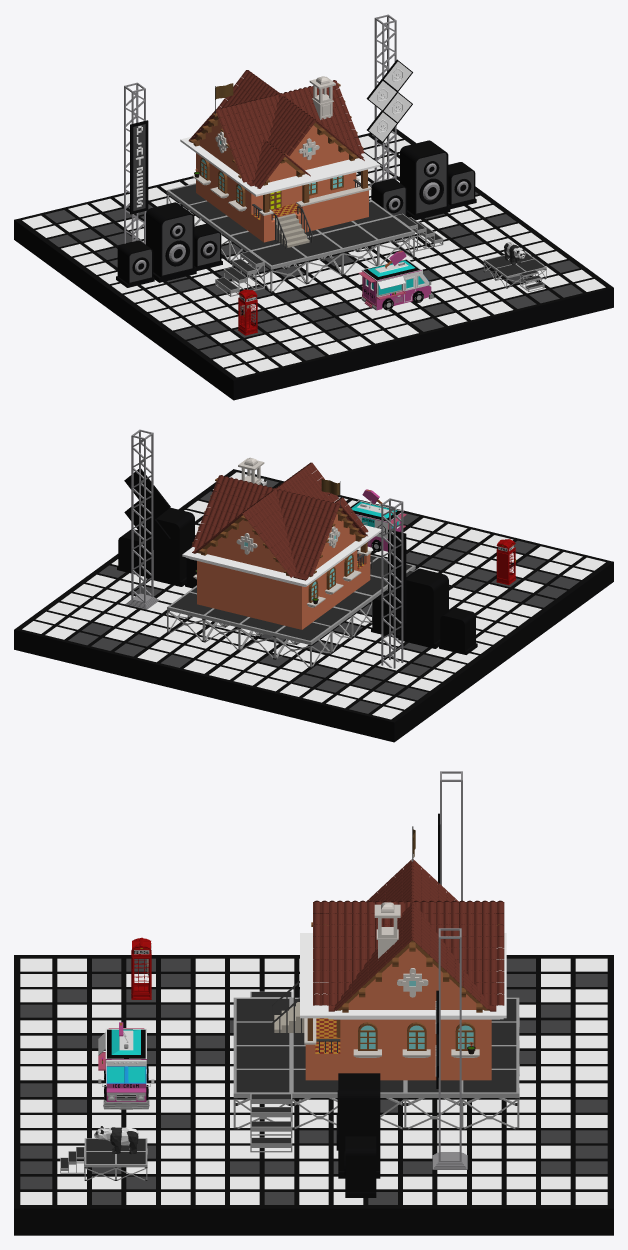
3 renders of one model, top to bottom at view 1: azimuth 30°, elevation 25°; view 2: azimuth 150°, elevation 25°; view 3: azimuth 270°, elevation 25°, orthographic. The views are drawn at different scales.
Visible parts, largest first — view 1: Cube.008, Cube.1141, VEHICLES_ICE_CREAM_TRUCK, OBJRANDOM_PHONEBOOTH; view 2: Cube.008, Cube.1141, VEHICLES_ICE_CREAM_TRUCK, OBJRANDOM_PHONEBOOTH; view 3: Cube.008, Cube.1141, VEHICLES_ICE_CREAM_TRUCK, OBJRANDOM_PHONEBOOTH, ANIMAL_PANDA.
Boxes of the visible parts, x1=… form: Cube.008: x1=14, y1=14, x2=613, y2=400; Cube.1141: x1=180, y1=70, x2=379, y2=248; VEHICLES_ICE_CREAM_TRUCK: x1=358, y1=250, x2=434, y2=310; OBJRANDOM_PHONEBOOTH: x1=238, y1=289, x2=257, y2=335; Cube.008: x1=14, y1=429, x2=613, y2=742; Cube.1141: x1=182, y1=457, x2=381, y2=629; VEHICLES_ICE_CREAM_TRUCK: x1=350, y1=489, x2=406, y2=551; OBJRANDOM_PHONEBOOTH: x1=496, y1=539, x2=516, y2=585; Cube.008: x1=14, y1=771, x2=613, y2=1235; Cube.1141: x1=272, y1=826, x2=506, y2=1080; VEHICLES_ICE_CREAM_TRUCK: x1=98, y1=1022, x2=154, y2=1109; OBJRANDOM_PHONEBOOTH: x1=131, y1=937, x2=151, y2=999; ANIMAL_PANDA: x1=94, y1=1126, x2=138, y2=1154.
Size of the model in its own units: 4000 by 1980 by 4000.
Materials: 55 (1 with a texture image).
